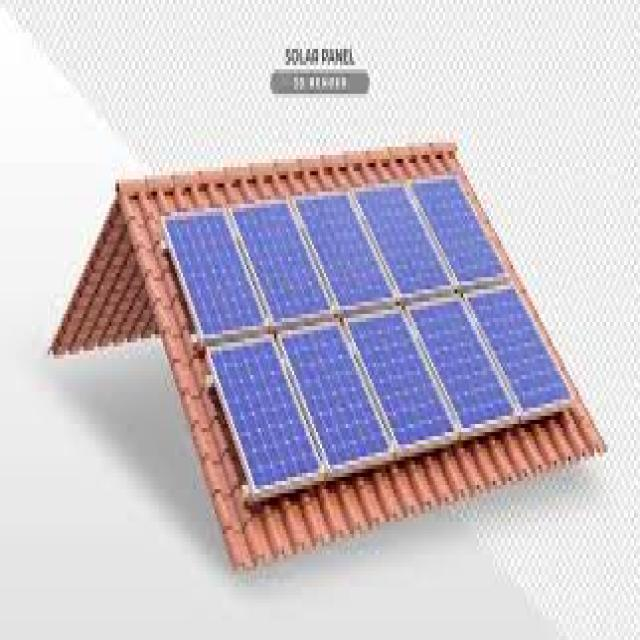clean-solar-panel: (166, 179, 572, 497)
